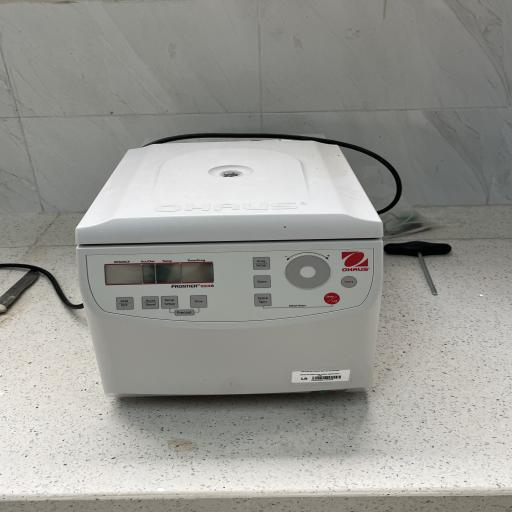Centrifuga_Ohaus_Frontier: (59, 120, 413, 423)
